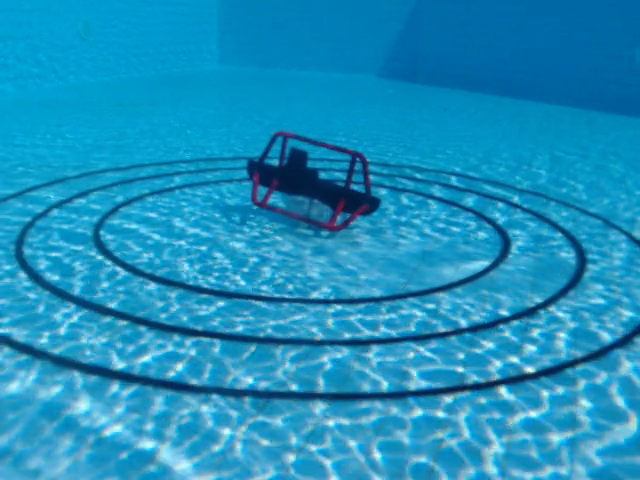submarine: (246, 130, 384, 235)
